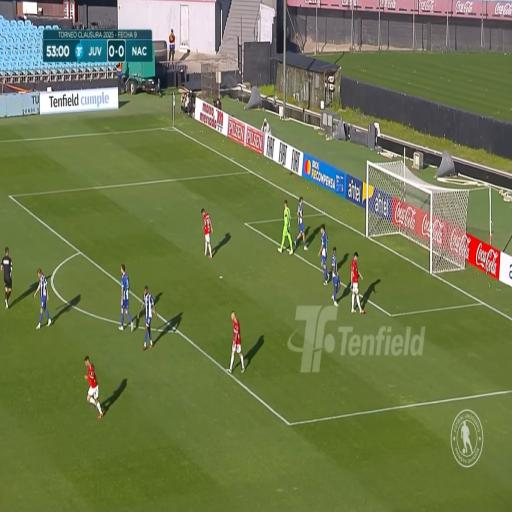Goalkeeper: (281, 194, 293, 257)
Player: (84, 353, 104, 419), (36, 266, 54, 329), (349, 247, 366, 312), (140, 284, 156, 352), (294, 190, 310, 257), (117, 263, 132, 332), (230, 312, 244, 378), (329, 242, 342, 309), (202, 206, 214, 258), (318, 221, 328, 283)
Referee: (0, 246, 15, 313)
